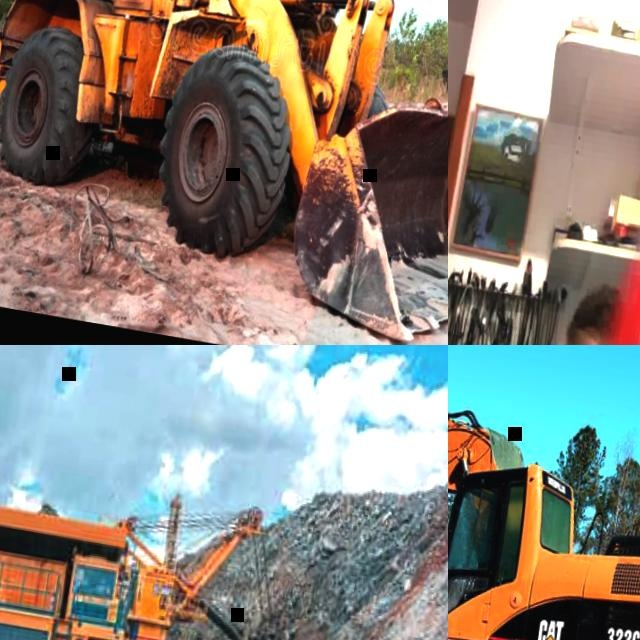NO-Hardhat: (564, 279, 622, 337)
Person: (460, 271, 640, 345)
Safety Cone: (577, 102, 640, 345)
machinery: (0, 0, 448, 345), (448, 370, 640, 640), (88, 484, 317, 640), (0, 482, 143, 640)
